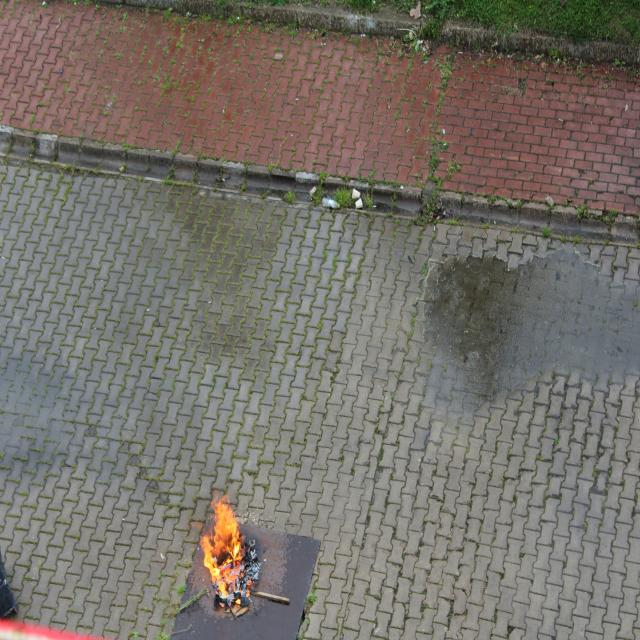fire: (194, 497, 262, 614)
